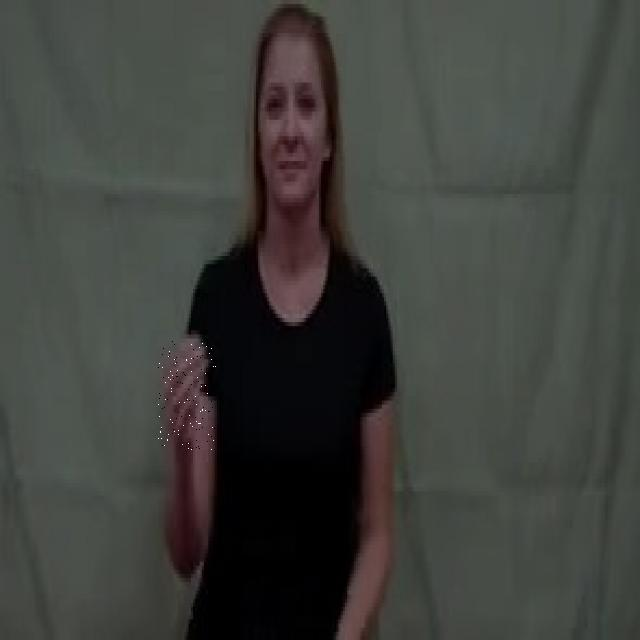ingredients: (158, 340, 216, 450)
